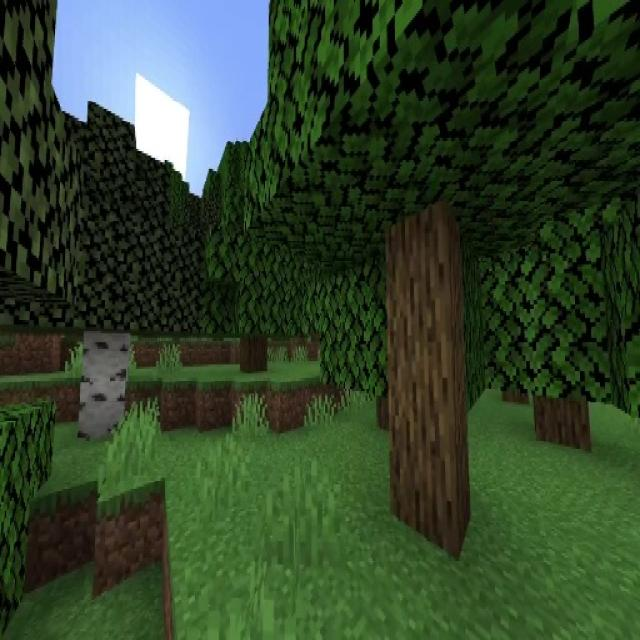birch: (13, 108, 192, 436)
birch_log: (80, 332, 128, 436)
oak: (270, 1, 592, 562), (496, 200, 632, 450), (191, 164, 313, 372)
oak_log: (387, 211, 471, 560), (534, 393, 590, 449), (240, 328, 266, 372)
